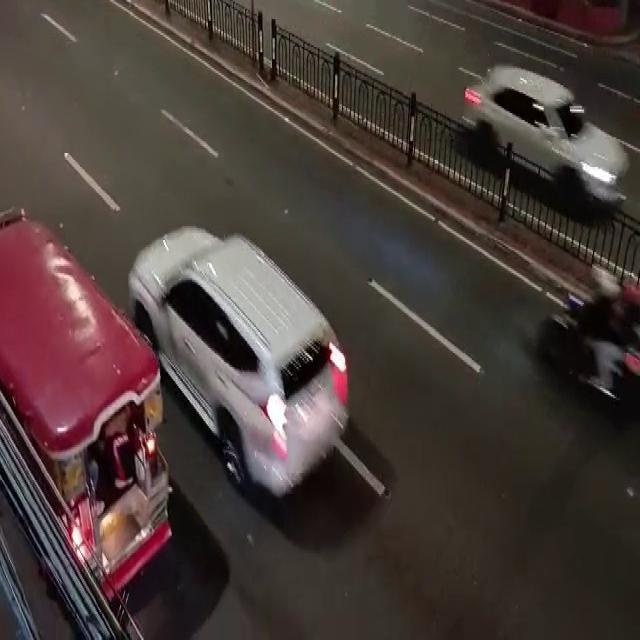car: (153, 227, 332, 480), (454, 78, 625, 210)
jeepney: (41, 200, 637, 604)
